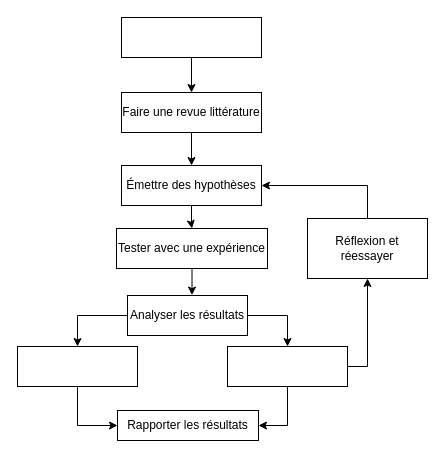
This 445x458 diagram has some shape labels left out. The centre of each missing label's shape, as x and y in pixels:
"L'hypothèse est fause" goes at point (287, 366).
"L'hypothèse est vrai" goes at point (77, 366).
"Poser une question" goes at point (191, 37).
